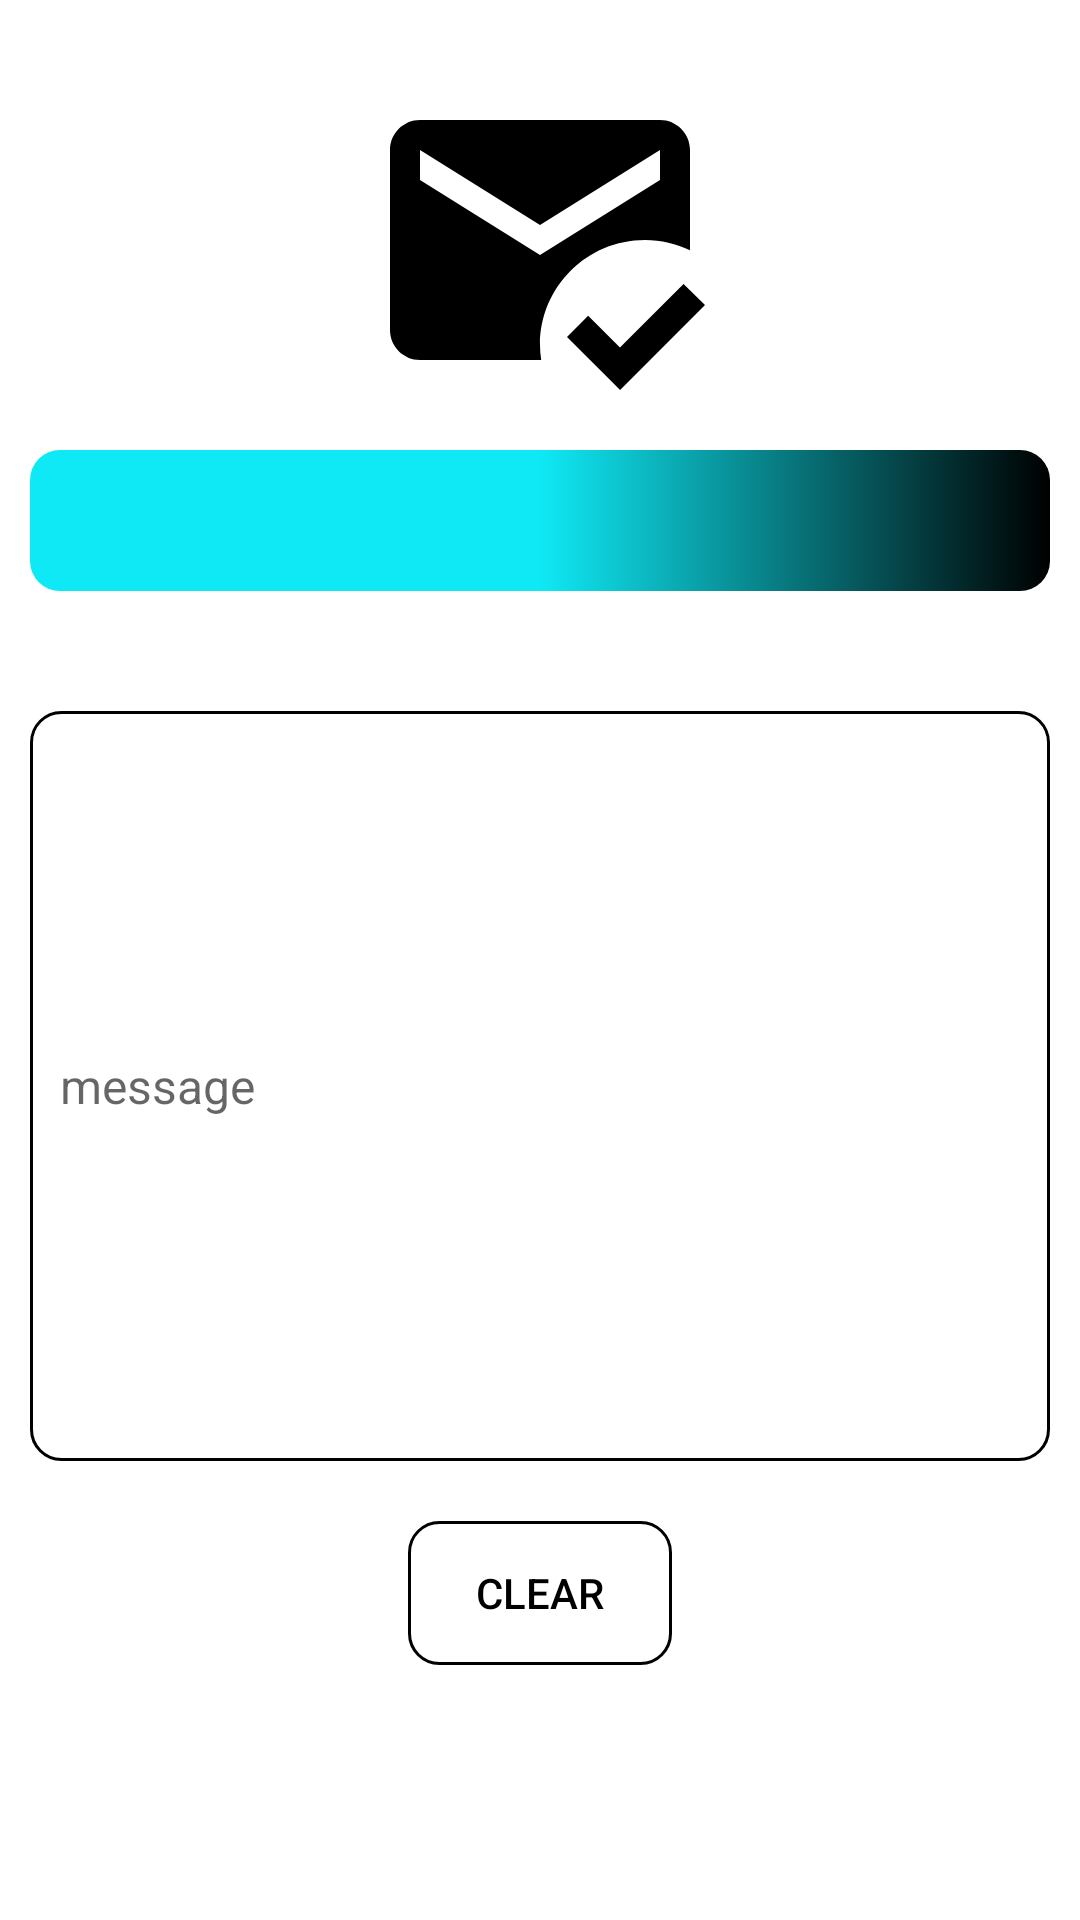

Where icons sit on this 1080 x 1920 app screen, as (x1, y1, x2, y2):
read: (390, 120, 705, 390)
